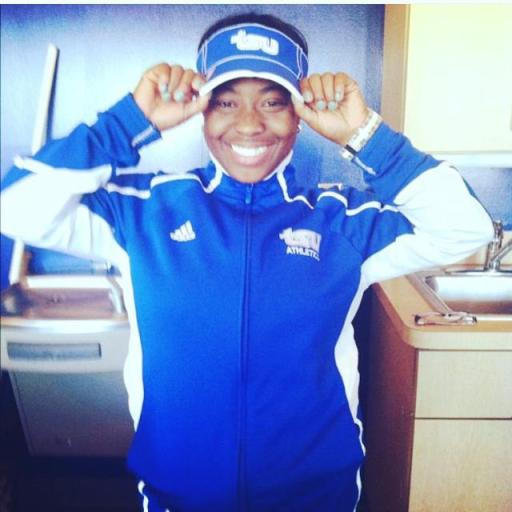Adidas: (169, 218, 197, 244)
